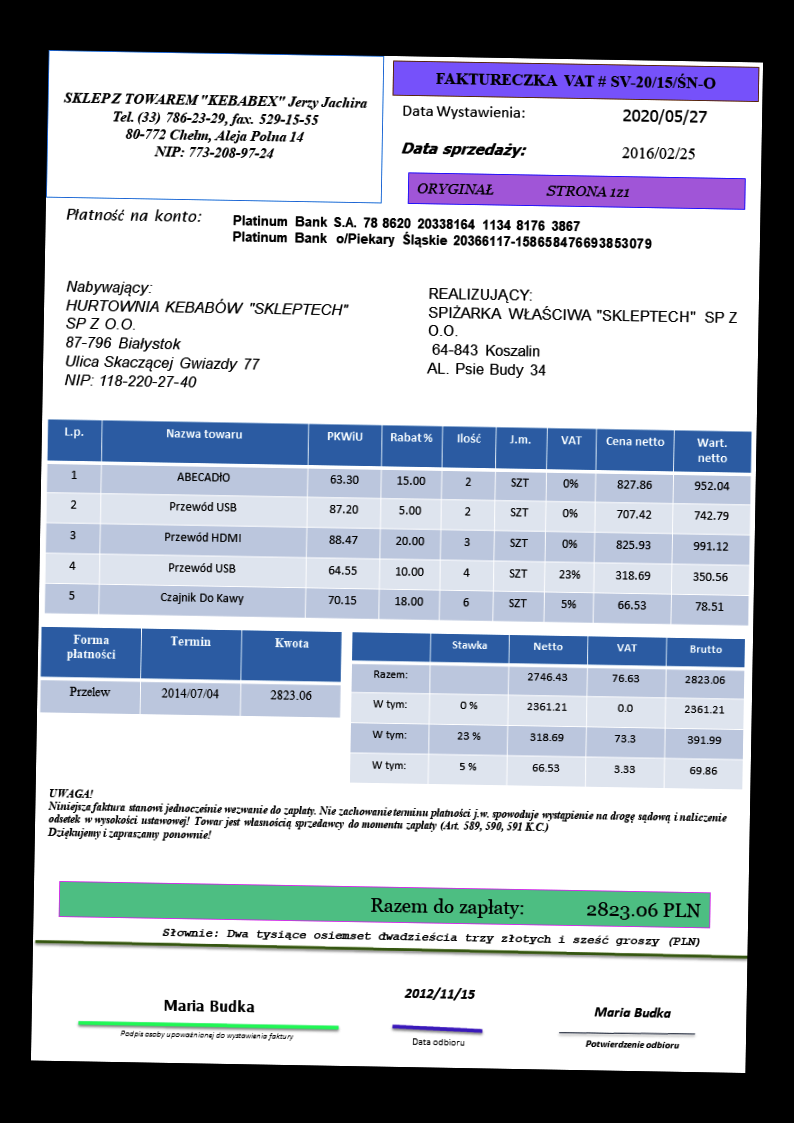Table: (42, 416, 753, 629), (346, 630, 747, 792), (39, 624, 345, 719)
TextBox: (46, 784, 729, 853), (62, 276, 352, 393), (424, 284, 741, 382), (59, 86, 368, 167), (231, 211, 657, 255), (157, 924, 702, 950), (366, 891, 703, 926), (434, 65, 722, 95), (414, 179, 632, 201), (64, 204, 202, 225), (117, 1027, 298, 1042), (398, 101, 527, 121), (399, 141, 529, 160), (620, 104, 710, 128), (160, 995, 259, 1016), (583, 1036, 682, 1052), (591, 1004, 675, 1021), (401, 984, 479, 1002), (620, 144, 698, 161), (408, 1034, 470, 1049)
